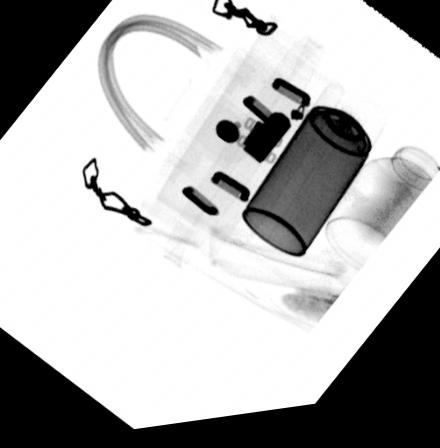Sprayer: (238, 90, 390, 266)
